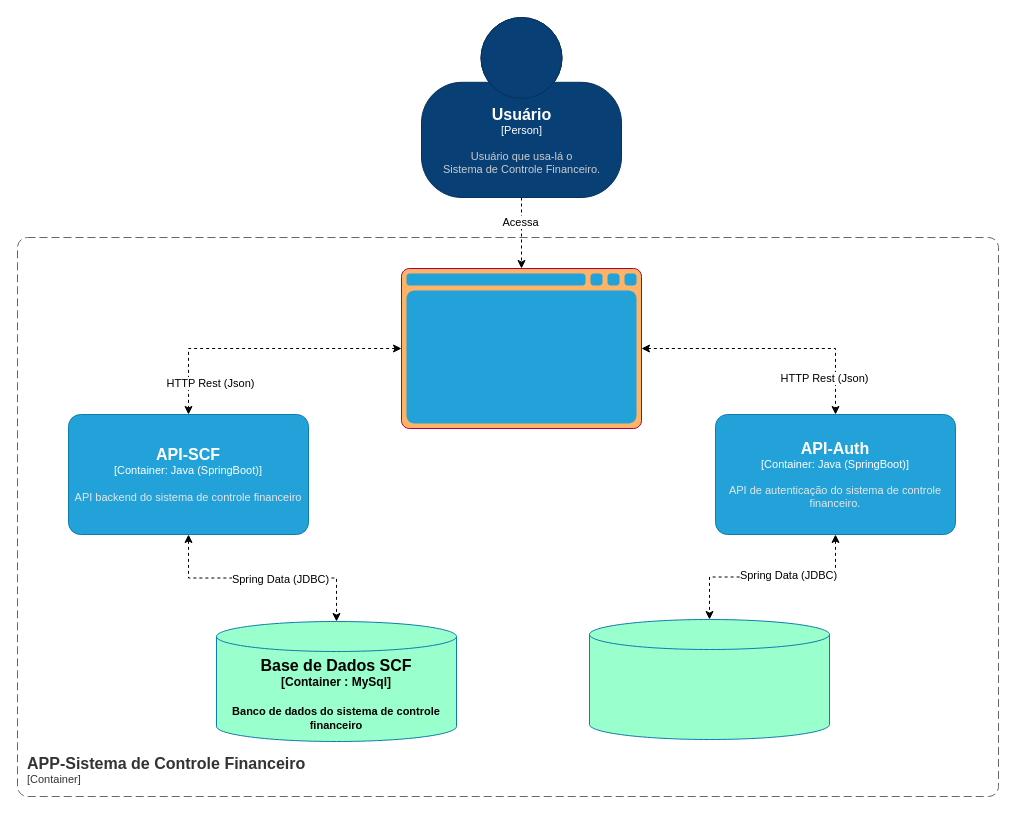
Some shapes in this 1016 by 814 pixel diagram are drawn without their labels. Each missing label, with the centre of its shape:
"Base de Dados Autenticação [Container : MySql] Banco de dados de autenticação" goes at pixel 709 679.
"Front-End do SCF [Container : Angular] Front-End da aplicação SCF" goes at pixel 521 348.
